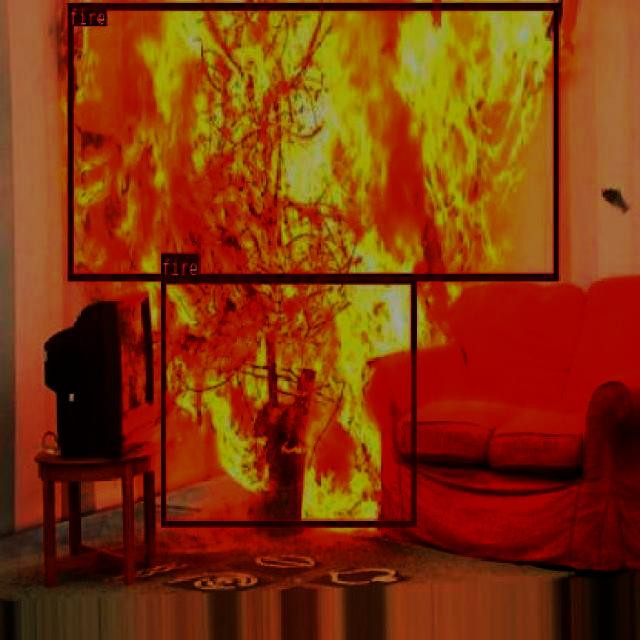fire: (67, 2, 558, 278), (160, 276, 416, 526)
